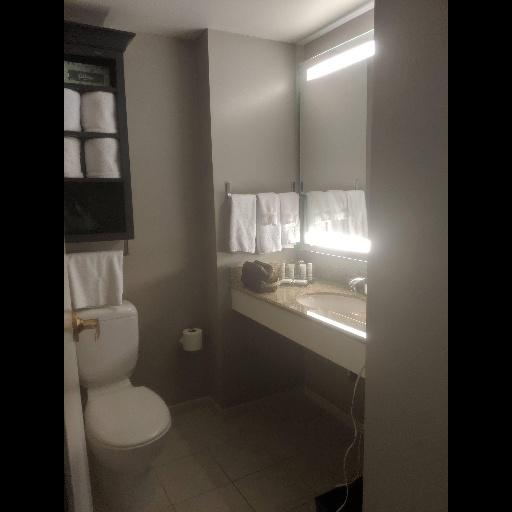clean_toilet: (76, 306, 177, 489)
folded_towel: (226, 192, 305, 258), (66, 245, 130, 309)
